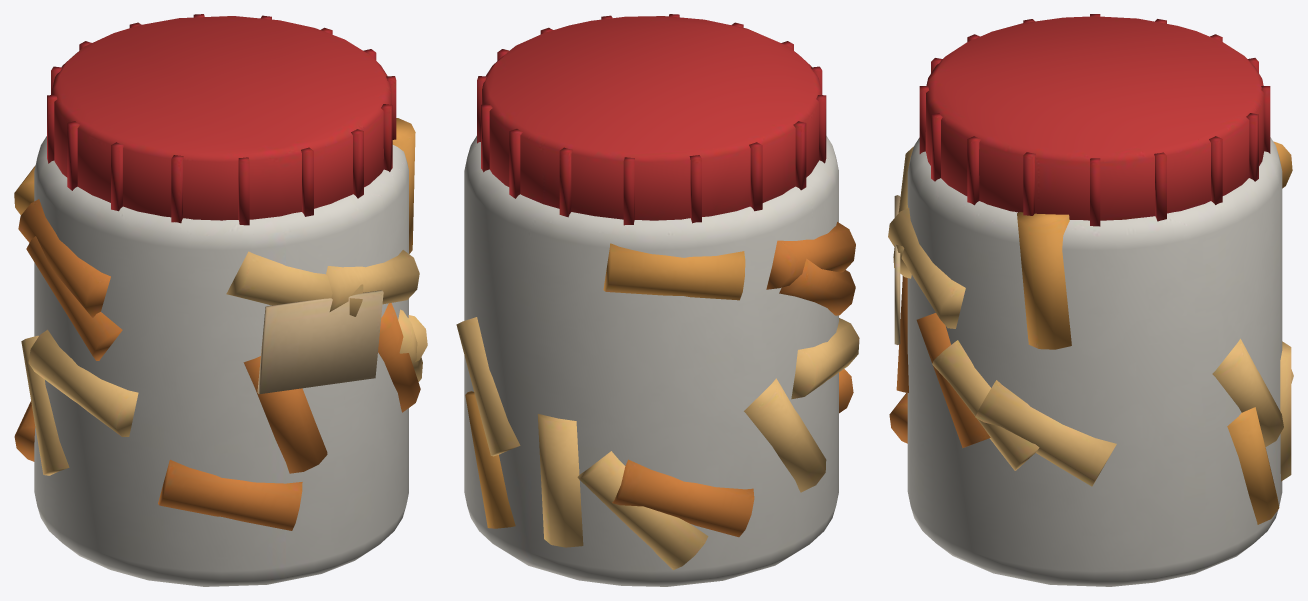
The model's file is keepsake-rice-paper-jar.glb.
3 renders of one model, left to right at view 1: azimuth 30°, elevation 25°; view 2: azimuth 150°, elevation 25°; view 3: azimuth 270°, elevation 25°, orthographic.
Visible parts, largest first — view 1: keepsake-rice-paper-jar; view 2: keepsake-rice-paper-jar; view 3: keepsake-rice-paper-jar.
Boxes of the visible parts, box(x1,y1,x2,y2) form: keepsake-rice-paper-jar: box(14, 14, 427, 586); keepsake-rice-paper-jar: box(456, 14, 859, 586); keepsake-rice-paper-jar: box(888, 14, 1293, 586).
Size of the model in its own units: 0.1296 by 0.15 by 0.1277.
1 material, 1 textured.
